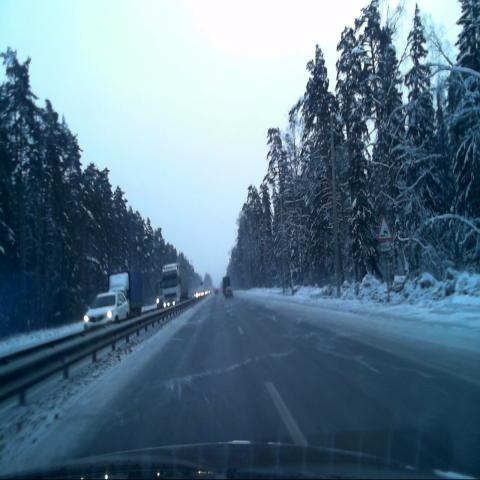1_19: (377, 215, 392, 241)
